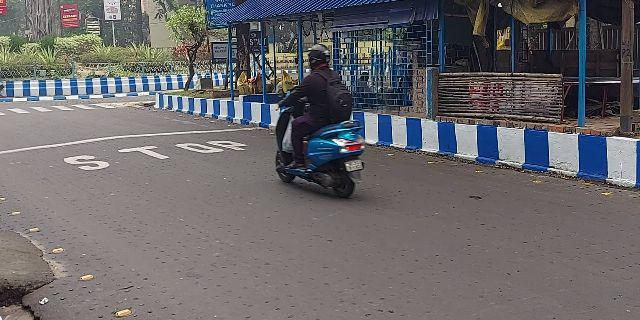Motorbike: (270, 40, 372, 197)
